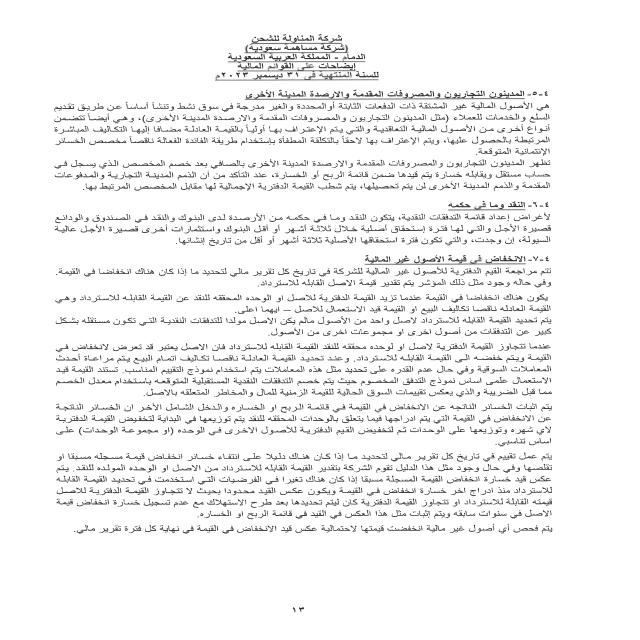notes: (220, 61, 359, 70)
text: (30, 81, 561, 541)
